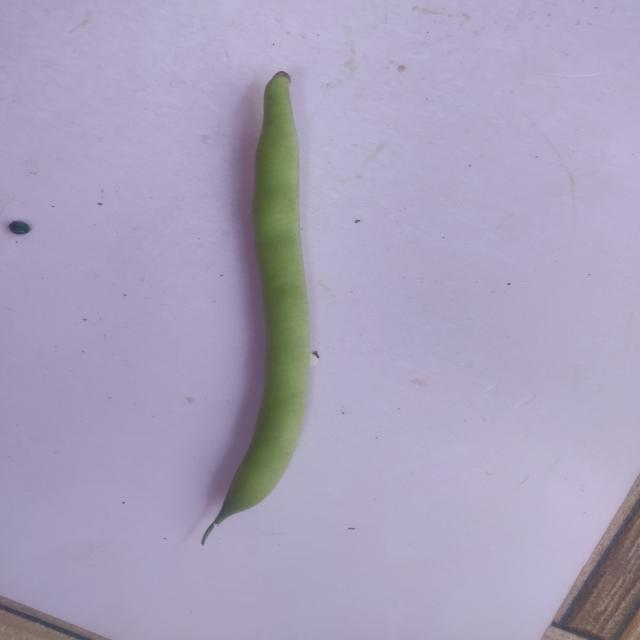Beans: (184, 54, 326, 558)
